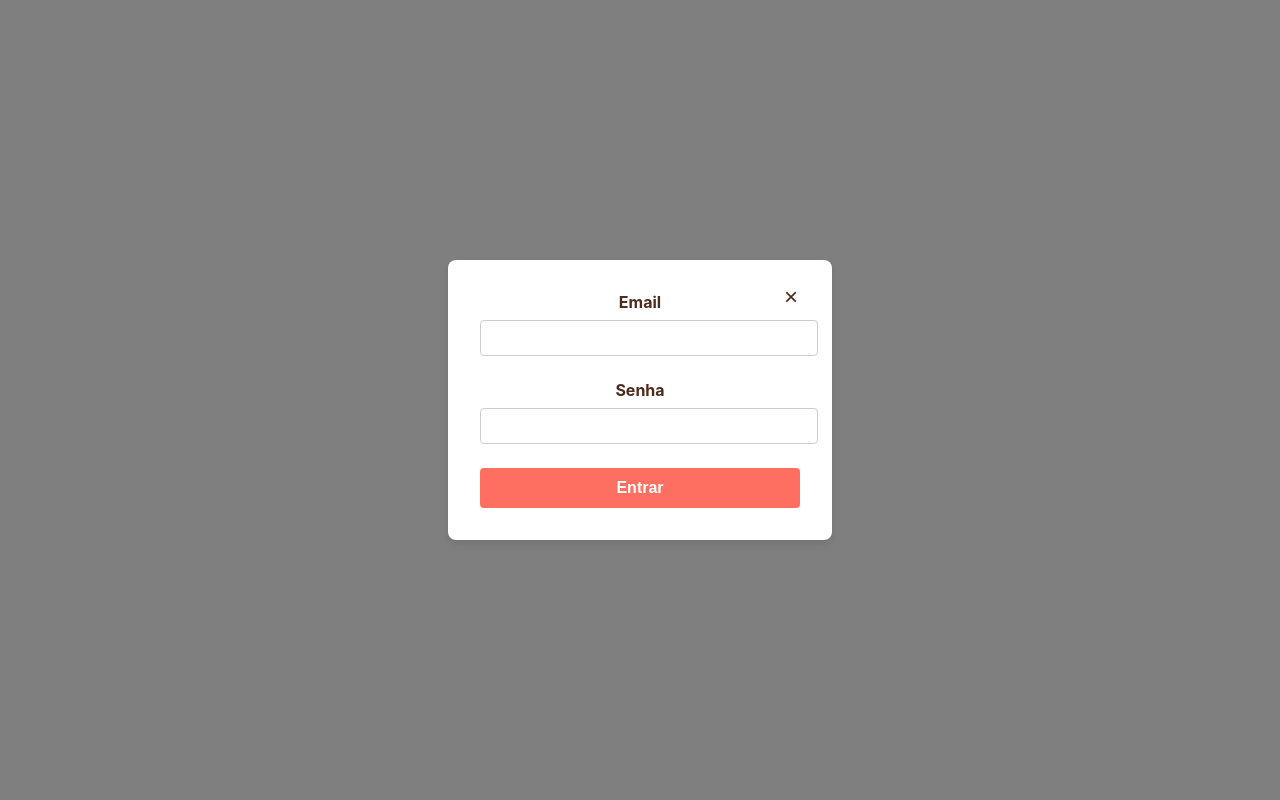
Test case: LoginPopup component › should display error message when there is a server connection error
Type "test@test.com" into the field labelled "Email". click: (649, 338)
box: top-left (480, 320), bottom-right (818, 356)
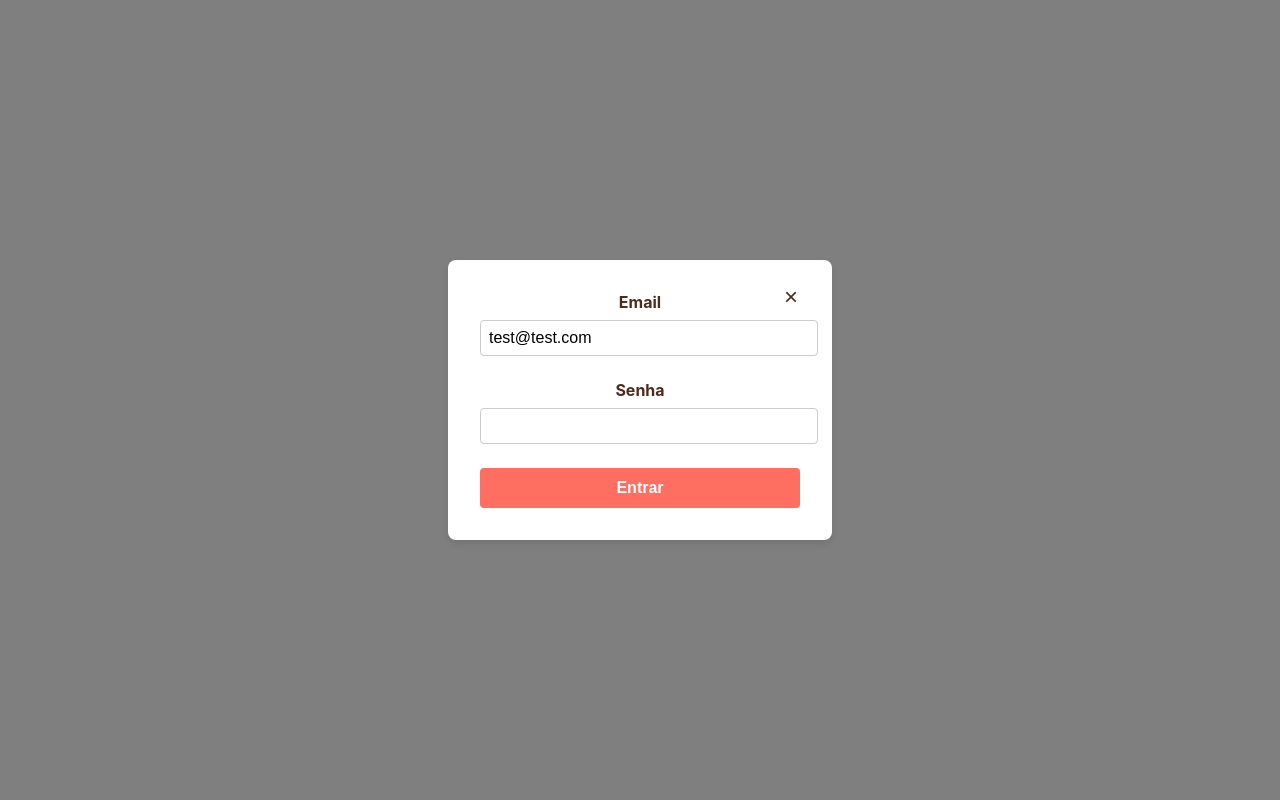
Type "correctpassword" into the password field labelled "Senha". click: (649, 426)
box: top-left (480, 408), bottom-right (818, 444)
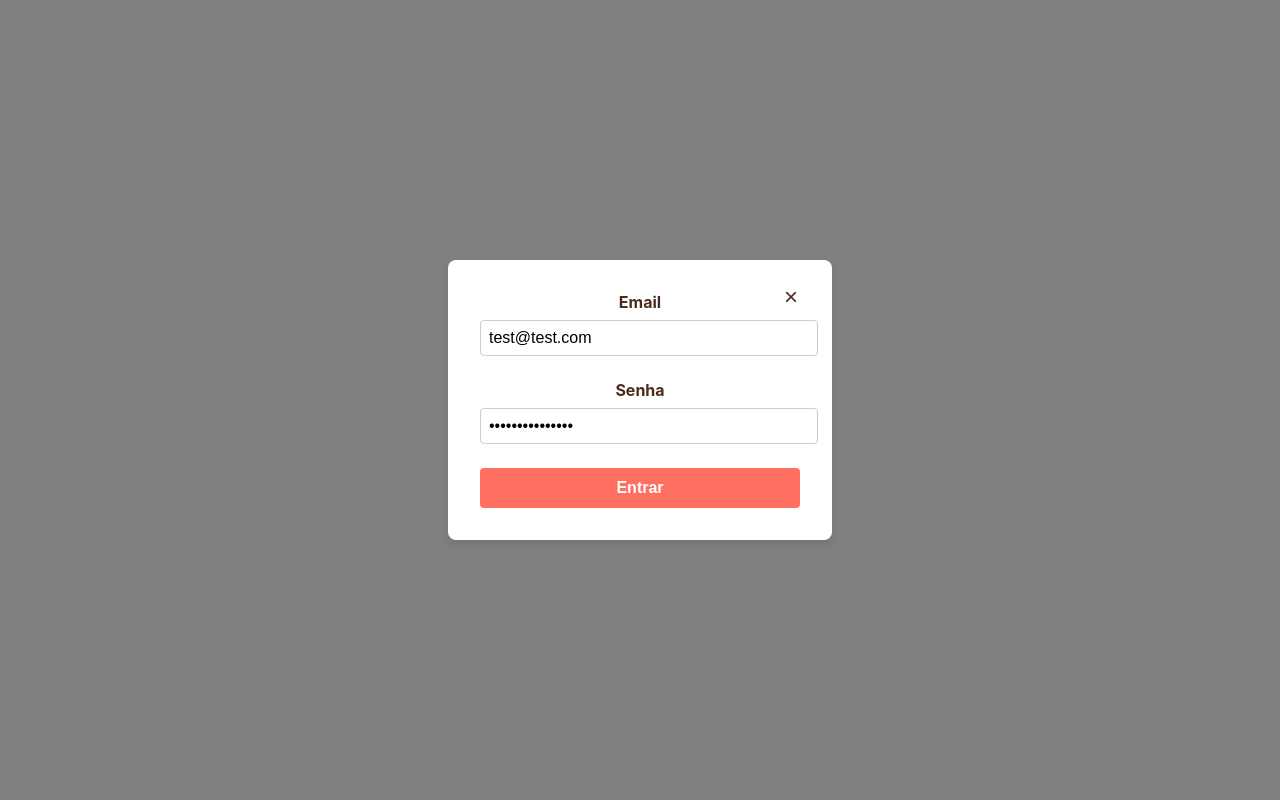
Click the button "Entrar". click: (640, 488)
box: top-left (480, 468), bottom-right (800, 508)
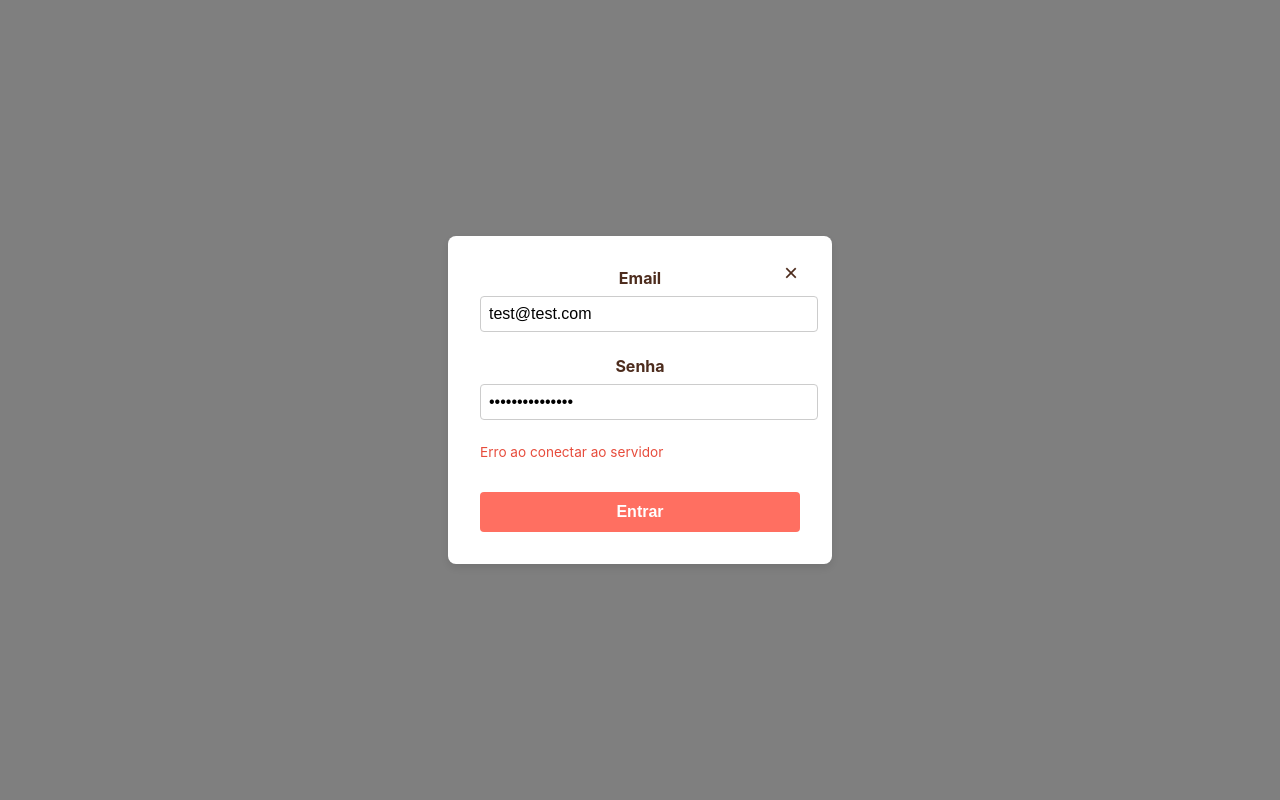
Check: the text "Erro ao conectar ao servidor" is shown, box top-left (480, 444), bottom-right (663, 460)
